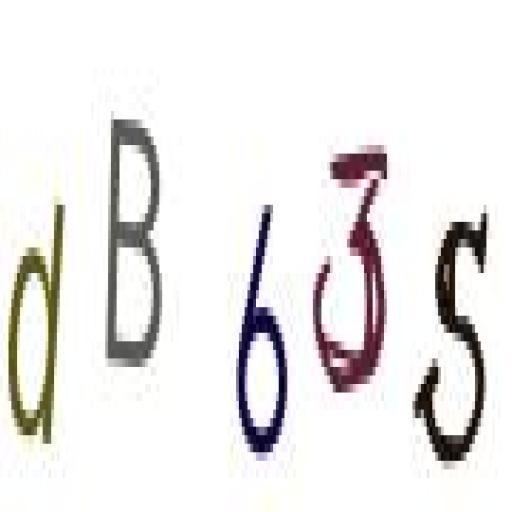3: (314, 139, 387, 403)
6: (231, 198, 297, 466)
B: (103, 98, 166, 388)
d: (4, 188, 74, 469)
s: (412, 204, 490, 468)
